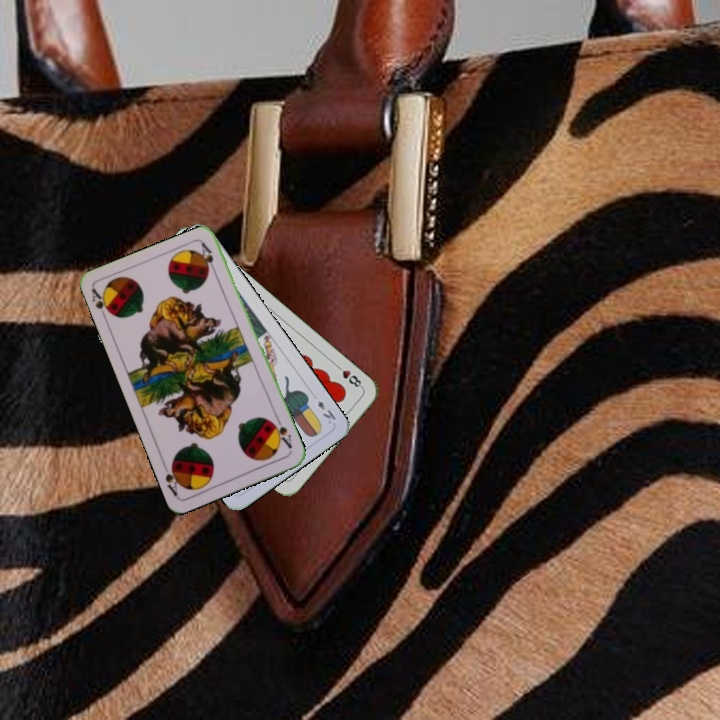EK: (313, 397, 339, 427)
H8: (331, 360, 365, 391)
SA: (88, 284, 116, 324), (268, 414, 295, 451)
